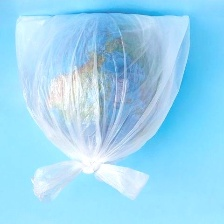plastic_bag: (5, 10, 196, 205)
